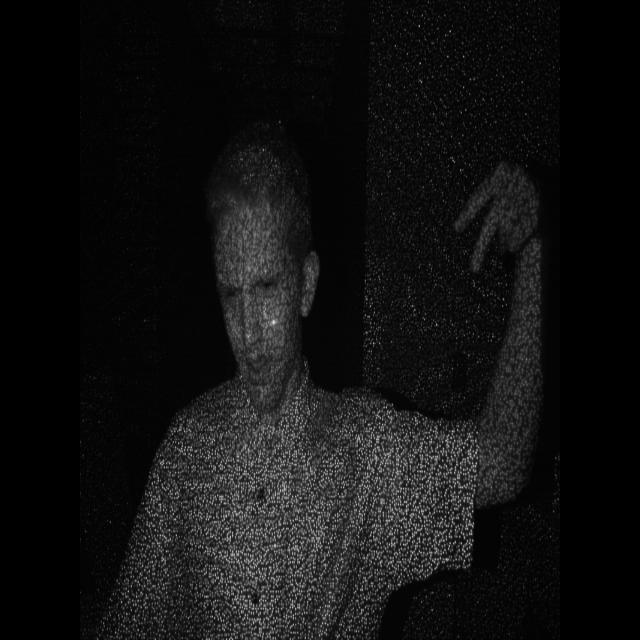P: (444, 149, 549, 291)
